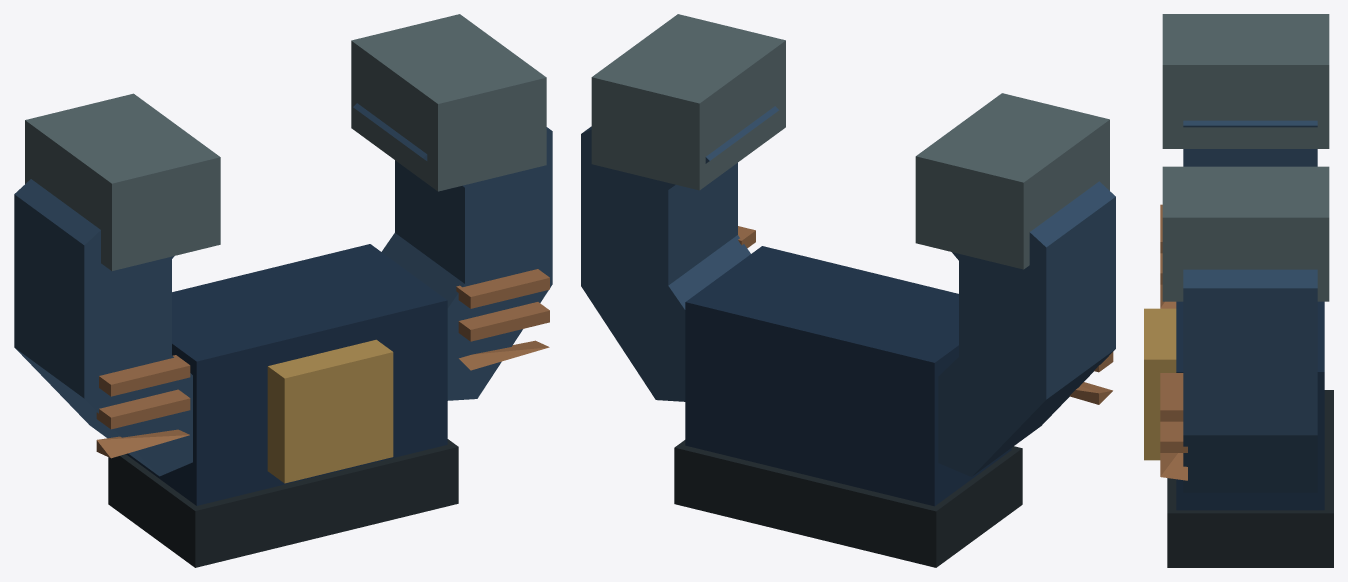
File: MAGNET_PICKUP.shadow.glb
3 renders of one model, left to right at view 1: azimuth 30°, elevation 25°; view 2: azimuth 150°, elevation 25°; view 3: azimuth 270°, elevation 25°, orthographic. The views are drawn at different scales.
Parts seen in each view (by area): view 1: Body_Mesh; view 2: Body_Mesh; view 3: Body_Mesh.
Part boxes in pixels (x1,y1,x2,y2): Body_Mesh: [14, 14, 552, 567]; Body_Mesh: [581, 14, 1115, 567]; Body_Mesh: [1144, 14, 1333, 567].
Size of the model in its own units: 1.12 by 0.93 by 0.41.
